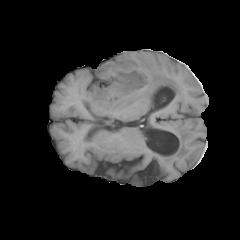glioma: (80, 59, 192, 159)
